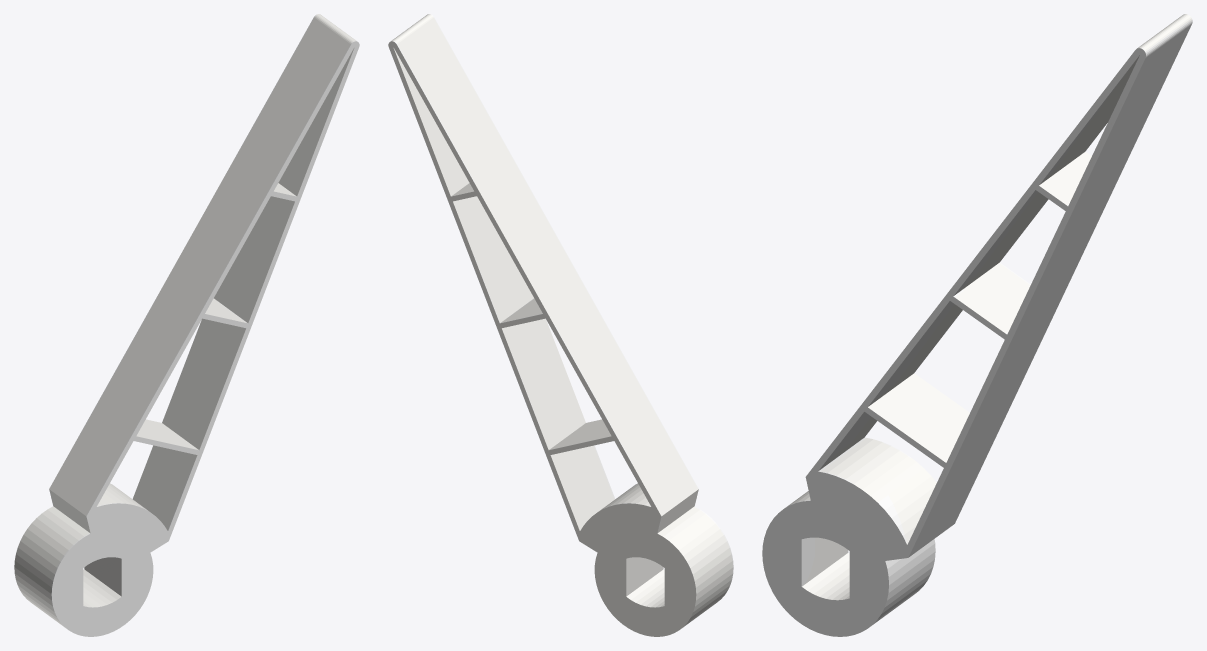
Rendered from soft_gripper_thin.glb.
The picture shows the model from 3 angles, left to right: view 1: azimuth 30°, elevation 25°; view 2: azimuth 150°, elevation 25°; view 3: azimuth 330°, elevation 25°; orthographic projection. The views are drawn at different scales.
Visible parts, largest first — view 1: soft_gripper_thin; view 2: soft_gripper_thin; view 3: soft_gripper_thin.
Boxes of the visible parts, x1,y1,x2,y2 form: soft_gripper_thin: (14,14,359,636); soft_gripper_thin: (388,14,733,636); soft_gripper_thin: (762,14,1192,636).
Bounding box in the file's own units: 0.0666 × 0.1101 × 0.014.
Materials: 1 (1 with a texture image).
